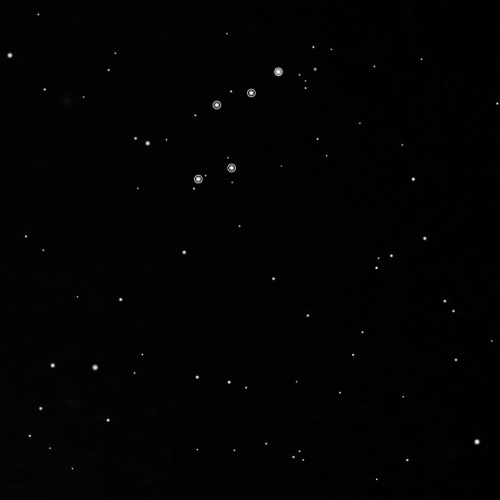lyra: (191, 63, 286, 187)
